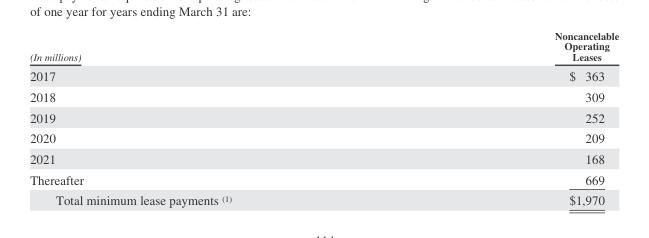table: (29, 29, 618, 207)
table column: (29, 29, 392, 207), (392, 29, 618, 207)
table column header: (29, 29, 618, 65)
table row: (29, 29, 618, 65), (29, 65, 618, 86), (29, 86, 618, 107), (29, 127, 618, 148), (29, 148, 618, 169), (29, 107, 618, 127), (29, 169, 618, 189), (29, 189, 618, 207)
